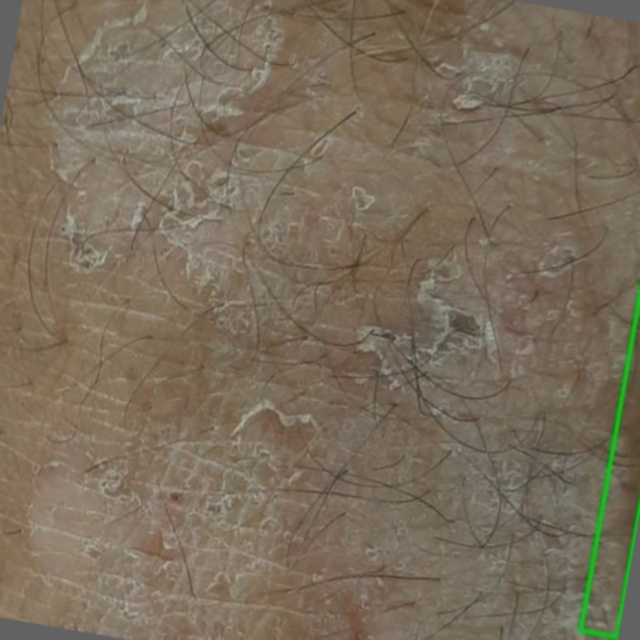Tinea Corporis: (581, 299, 639, 636)
